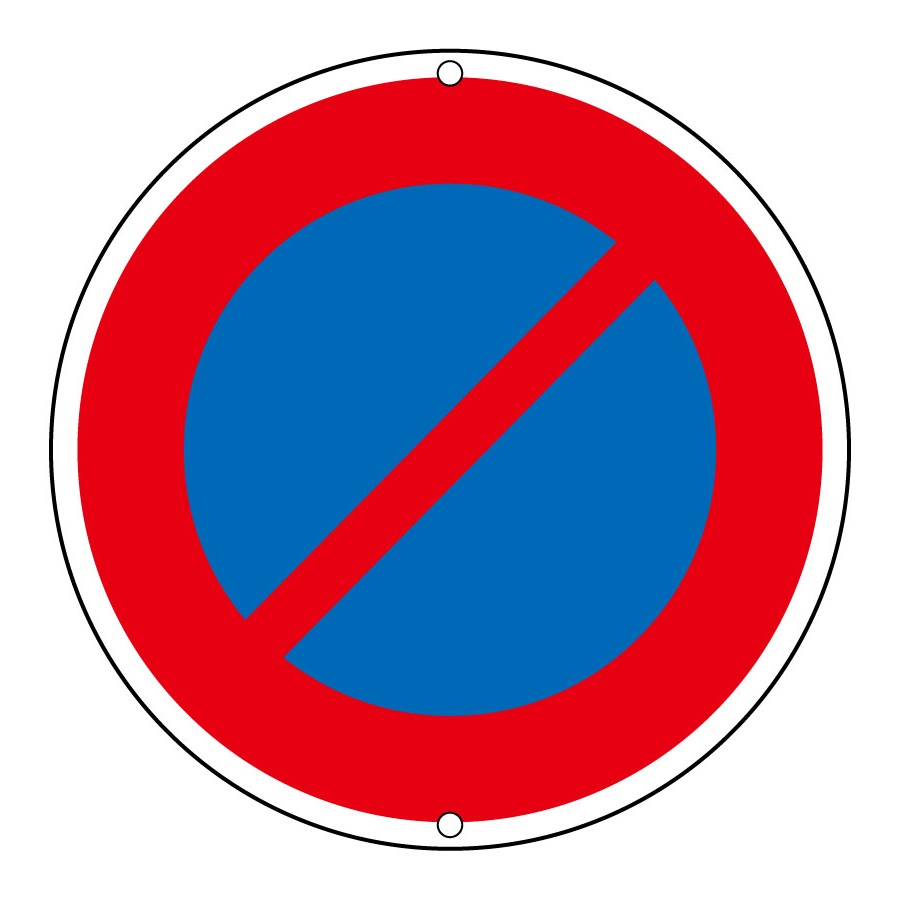Prohibition_sign: (24, 31, 881, 866)
